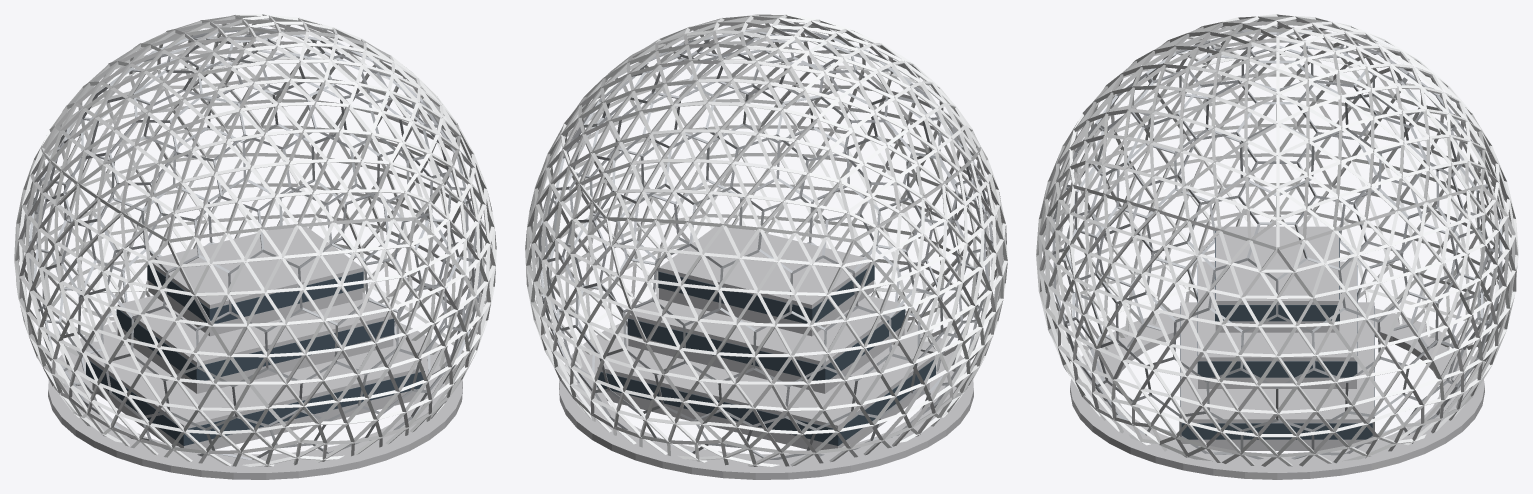
Rendered from biosphere.glb.
The picture shows the model from 3 angles, left to right: view 1: azimuth 30°, elevation 25°; view 2: azimuth 150°, elevation 25°; view 3: azimuth 270°, elevation 25°; orthographic projection.
Parts seen in each view (by area): view 1: lattice, museum, plinth; view 2: lattice, museum, plinth; view 3: lattice, museum, plinth.
Part boxes in pixels (box(x1,y1,x2,y2)): lattice: box(14, 14, 496, 466); museum: box(86, 223, 424, 450); plinth: box(48, 320, 462, 479); lattice: box(525, 14, 1007, 466); museum: box(597, 222, 935, 450); plinth: box(559, 321, 973, 479); lattice: box(1036, 14, 1518, 466); museum: box(1180, 226, 1374, 450); plinth: box(1070, 308, 1484, 479).
Size of the model in its own units: 76.68 by 62.3 by 76.68.
